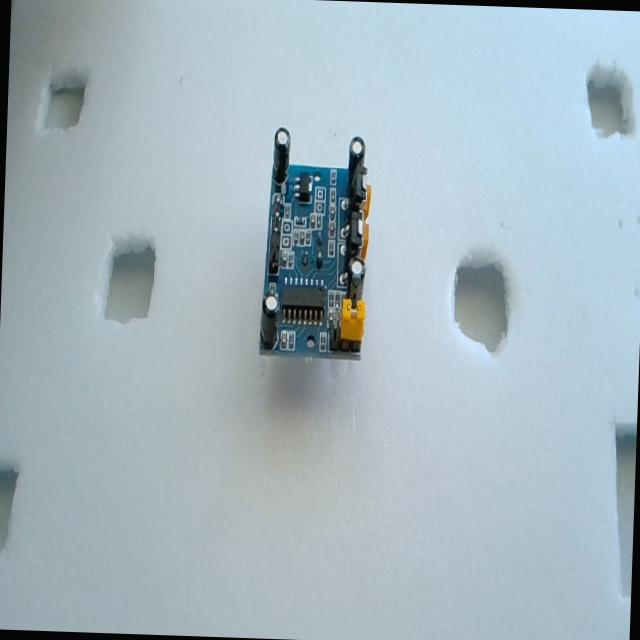Electrolytic capacitor: (270, 126, 292, 185), (259, 293, 279, 350), (346, 135, 366, 190), (348, 260, 366, 305)
IC: (278, 284, 326, 329)
pinheader: (268, 213, 282, 270)
